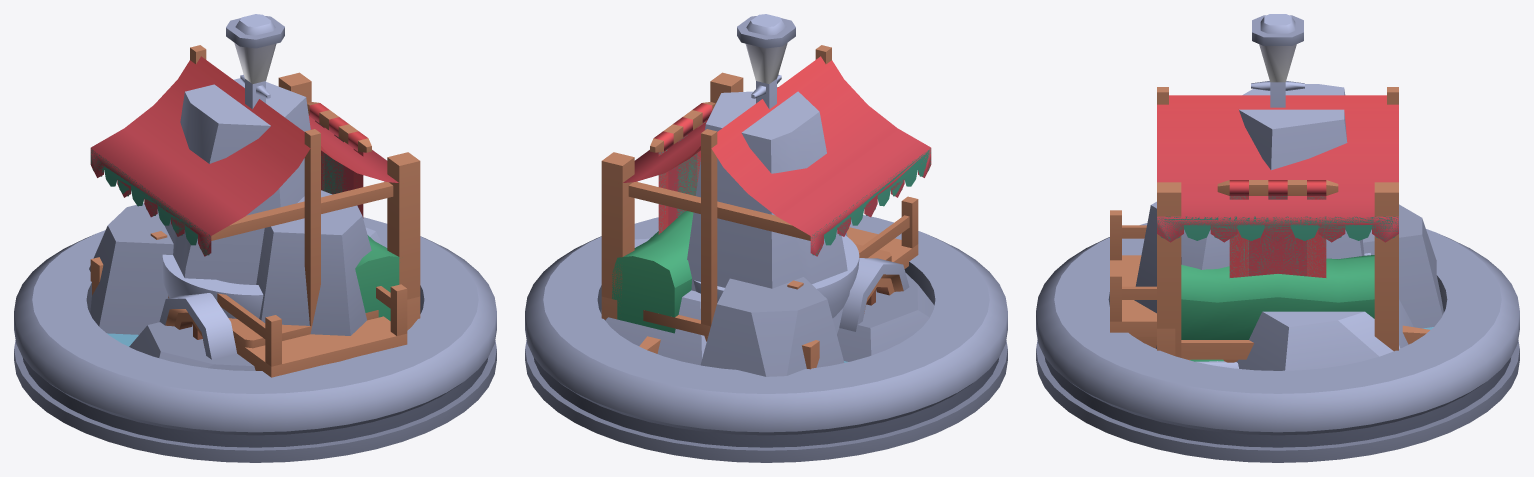
File: town.glb
3 views of the same model, side by side, from view 1: azimuth 30°, elevation 25°; view 2: azimuth 150°, elevation 25°; view 3: azimuth 270°, elevation 25° (orthographic).
Visible parts, largest first — view 1: fountain-round-detail, rock-large, stall-red, cart, poles, lantern, Group, banner-red, hedge-large, stall-green, banner-green; view 2: fountain-round-detail, rock-large, stall-red, hedge-large, poles, lantern, banner-red, cart, Group, stall-green, banner-green; view 3: fountain-round-detail, stall-red, rock-large, hedge-large, poles, banner-red, cart, stall-green, lantern, fence-curved, banner-green.
Boxes of the visible parts, x1,y1,x2,y2 form: fountain-round-detail: (14, 217, 496, 462); rock-large: (89, 78, 383, 370); stall-red: (90, 45, 398, 350); cart: (150, 231, 407, 377); poles: (278, 72, 420, 299); lantern: (226, 14, 284, 109); Group: (159, 293, 236, 359); banner-red: (307, 102, 371, 218); hedge-large: (355, 235, 399, 320); stall-green: (90, 148, 210, 255); banner-green: (317, 122, 359, 208); fountain-round-detail: (525, 215, 1007, 462); rock-large: (600, 91, 934, 376); stall-red: (623, 45, 931, 336); hedge-large: (612, 211, 693, 333); poles: (601, 72, 743, 302); lantern: (737, 14, 795, 109); banner-red: (650, 102, 715, 234); cart: (639, 196, 918, 353); Group: (839, 258, 909, 331); stall-green: (811, 148, 931, 255); banner-green: (658, 122, 705, 233); fountain-round-detail: (1036, 223, 1519, 462); stall-red: (1157, 87, 1398, 242); rock-large: (1134, 84, 1443, 370); hedge-large: (1181, 255, 1374, 368); poles: (1157, 182, 1398, 357); banner-red: (1217, 180, 1338, 277); cart: (1110, 210, 1429, 348); stall-green: (1157, 216, 1398, 240); lantern: (1251, 14, 1304, 107); fence-curved: (1157, 328, 1253, 359); banner-green: (1229, 196, 1326, 277).
Bounding box in the file's own units: 2 × 1.56 × 2.
2 materials, 1 textured.
